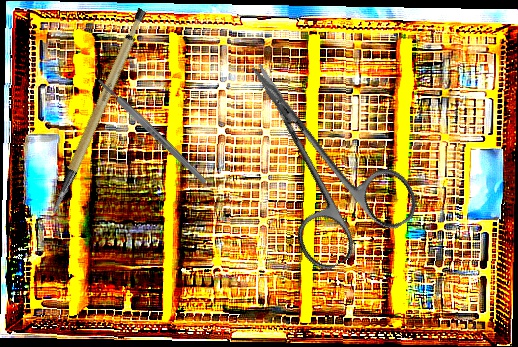Iris Scissors: (205, 29, 427, 278)
Scalpel Handle: (20, 6, 173, 215), (95, 76, 209, 186)
